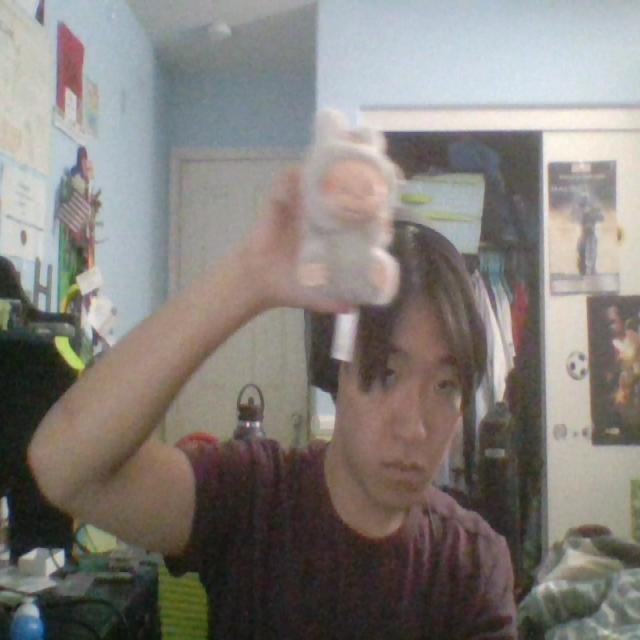labubu: (299, 111, 403, 305)
